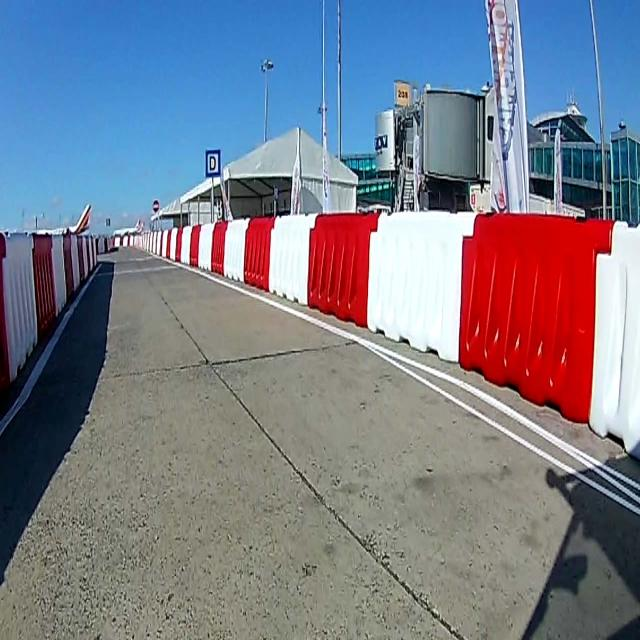durak: (204, 150, 220, 181)
girisyok: (151, 198, 160, 214)
